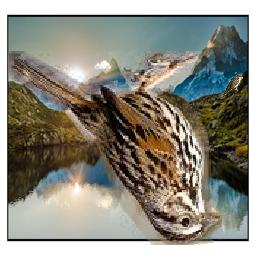Cuckoo: (219, 75, 243, 100)
Sparrow: (10, 51, 223, 245)
